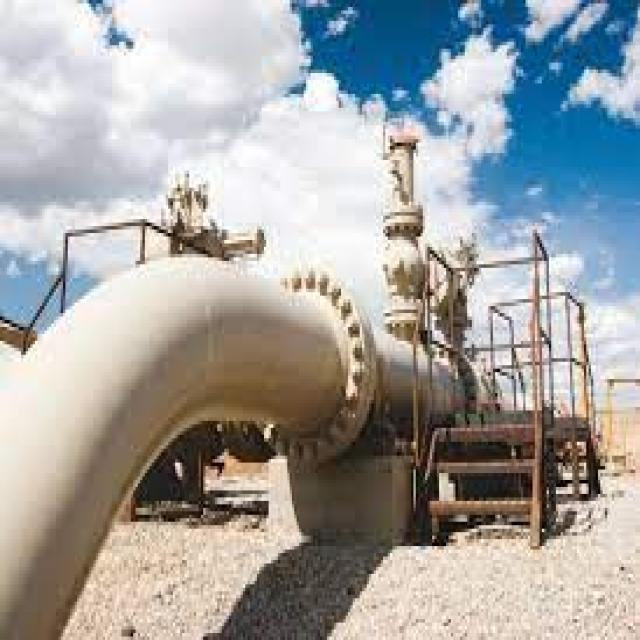gas: (0, 259, 345, 638)
